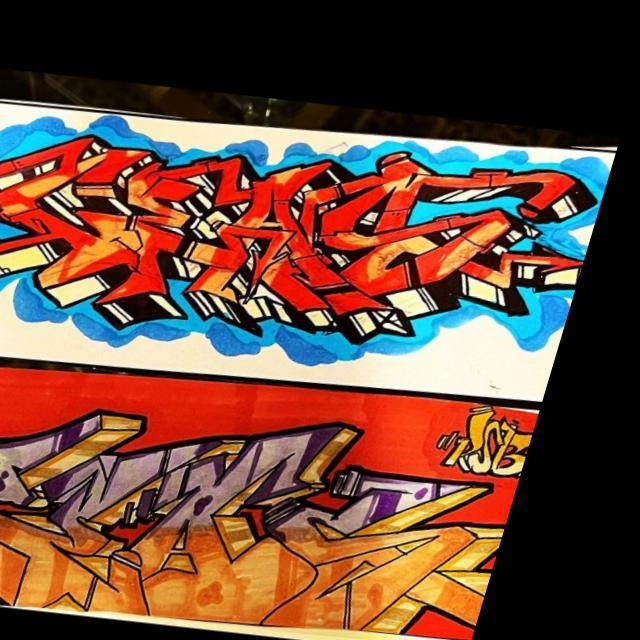-: (0, 84, 620, 402), (0, 376, 551, 639), (456, 400, 557, 457)
